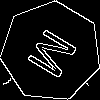M: (26, 26, 87, 86)
